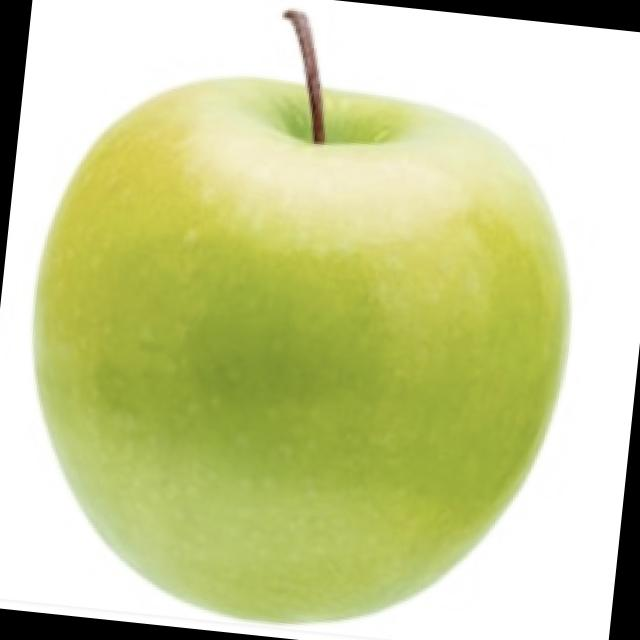Fresh_Apple: (20, 28, 640, 640)
